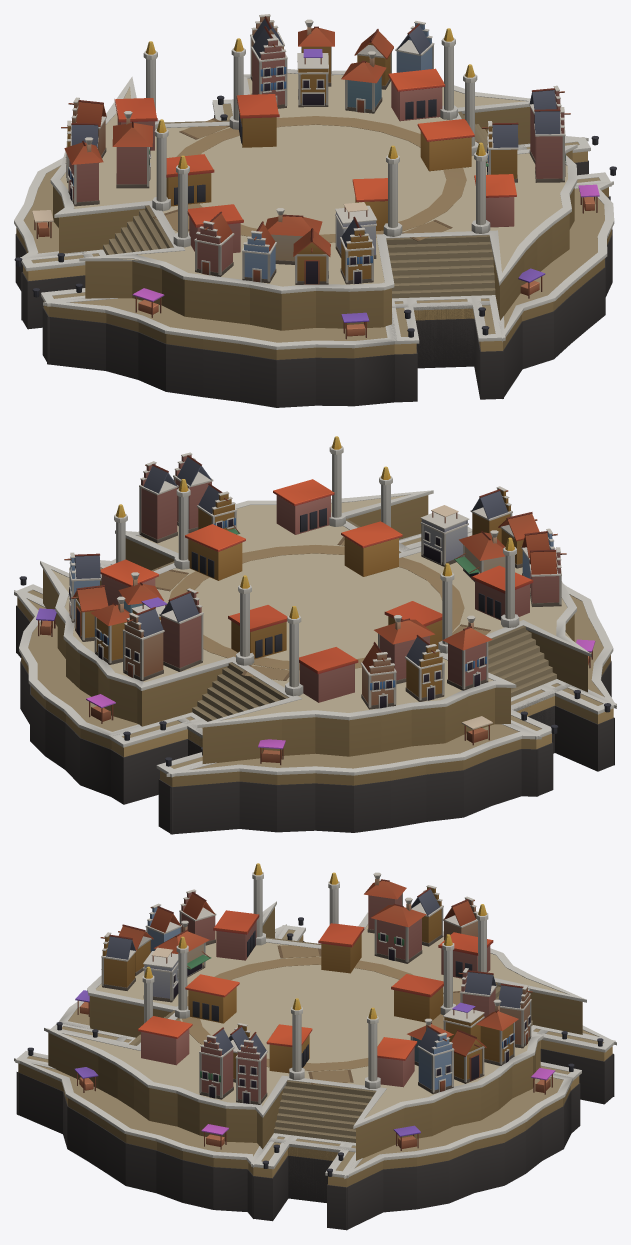
File: market-body.glb
The picture shows the model from 3 angles, top to bottom: view 1: azimuth 30°, elevation 25°; view 2: azimuth 150°, elevation 25°; view 3: azimuth 270°, elevation 25°; orthographic projection. The views are drawn at different scales.
Parts seen in each view (by area): view 1: market; view 2: market; view 3: market.
Part boxes in pixels (<box>): market: <box>14,14,616,407</box>; market: <box>14,436,616,834</box>; market: <box>14,863,616,1230</box>.
Size of the model in its own units: 39.57 by 12.33 by 39.73.
